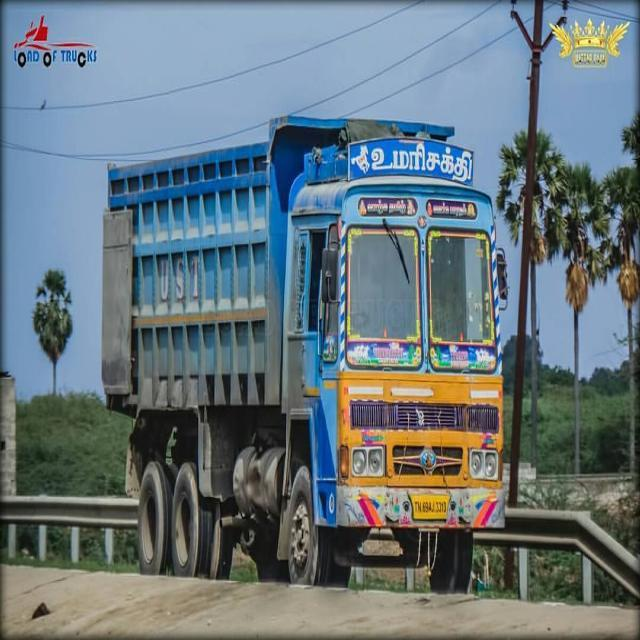Truck: (100, 112, 512, 596)
